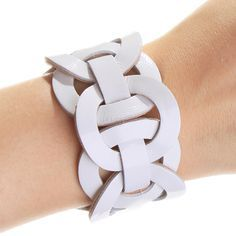cuero: (43, 30, 187, 223)
